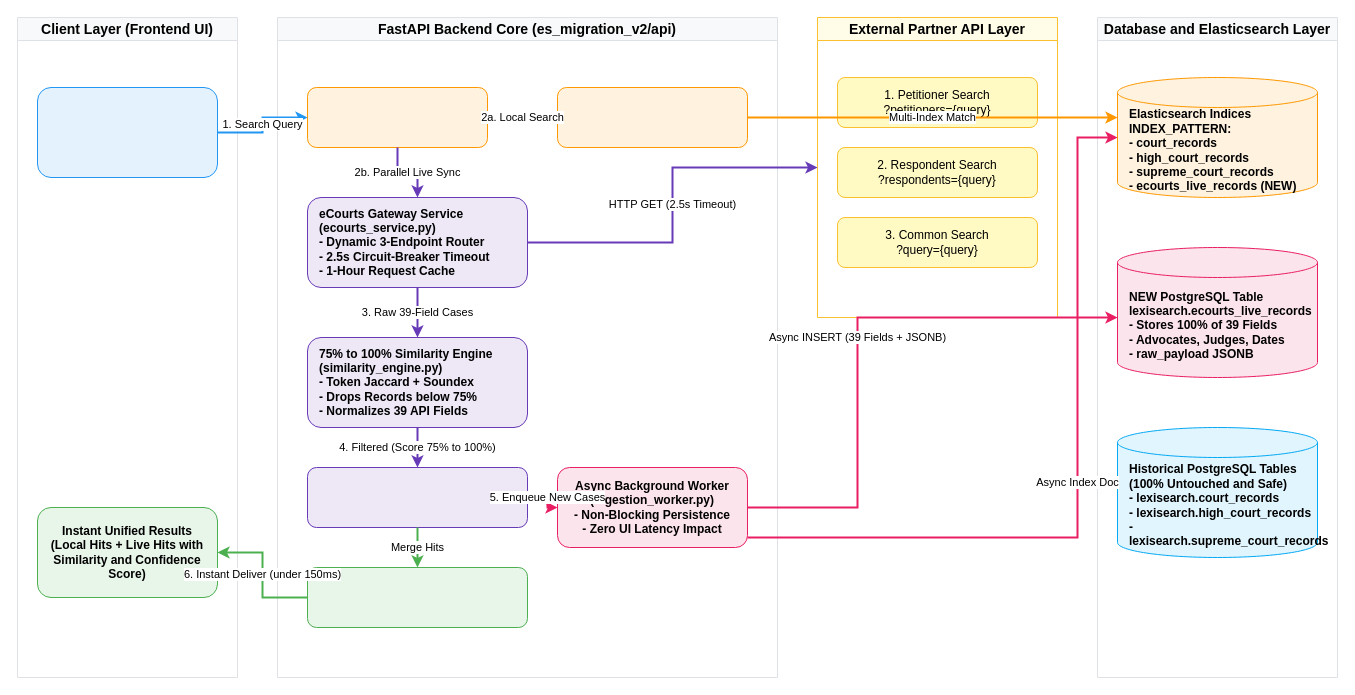
Some shapes in this 1355 by 695 pixel diagram are drawn without their labels. The centre of each missing label's shape, as x and y in pixels:
CNR Deduplication Unit - Checks existing CNRs - Retains Only Brand New Cases: (417,497)
Local Elasticsearch Search (Sub-30ms Query Engine): (652,117)
POST /search Endpoint (main.py): (397,117)
Result Merger and Sorter (Ranks by Confidence Score): (417,597)
User Dashboard Search Bar (Petitioner / Respondent / All) user_dashboard.js: (127,132)
